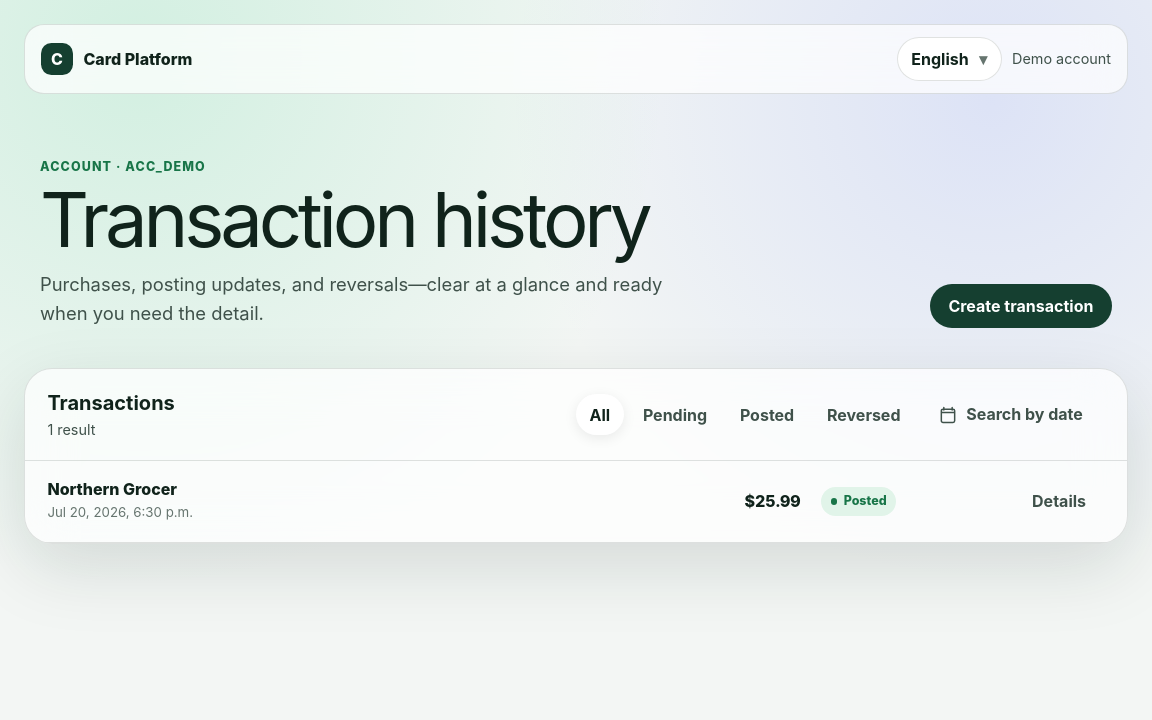
App › switches the complete customer UI to French and persists the preference
This screenshot has width=1152, height=720.
Expected: the heading "Transaction history" is shown, [40,182,711,257]
Click the dropdown named "Language".
click(949, 59)  # box [897,37,1002,81]
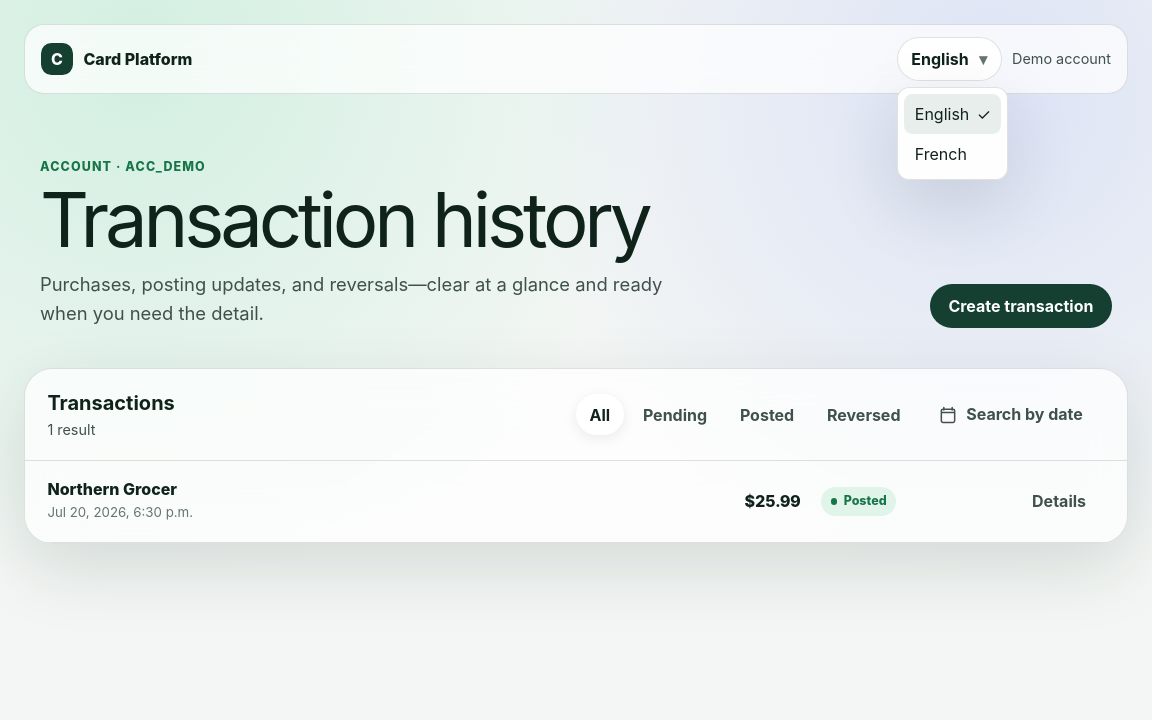
Click the option "French".
click(941, 154)  # box [915,144,967,164]
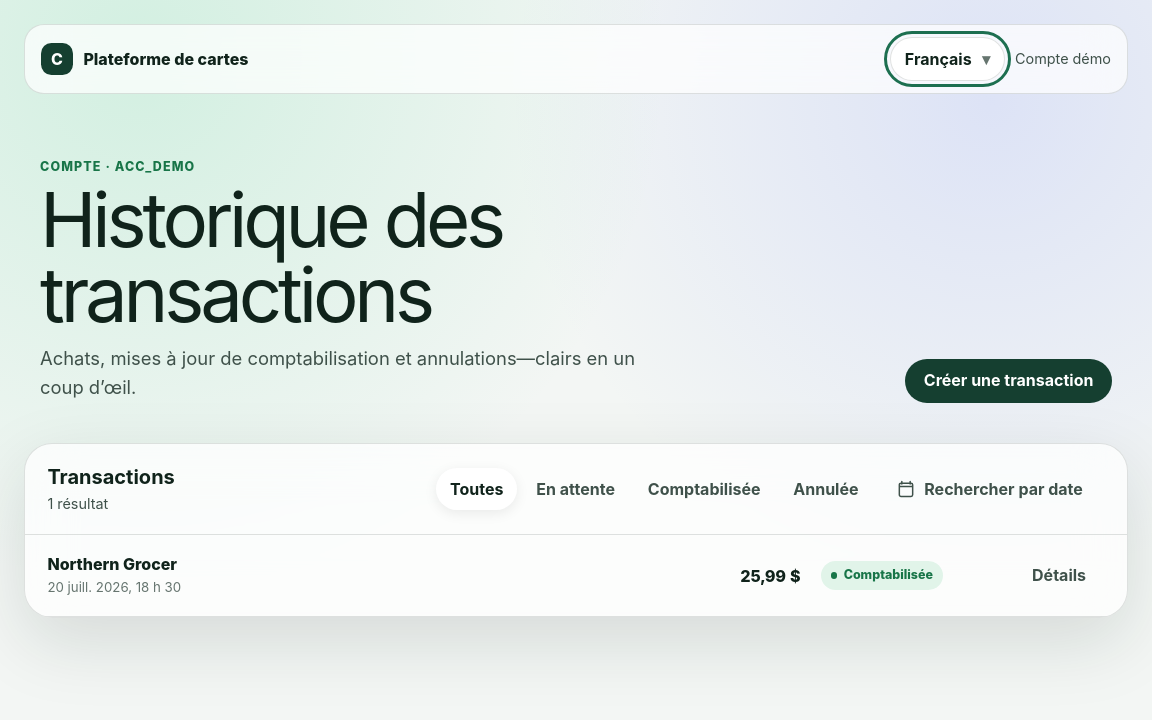
Expected: the heading "Historique des transactions" is shown, [40,173,502,340]
Expected: the text "25,99 $" is shown, [740,566,801,586]
Click the button "Créer une transaction".
click(1009, 381)  # box [905,359,1112,403]
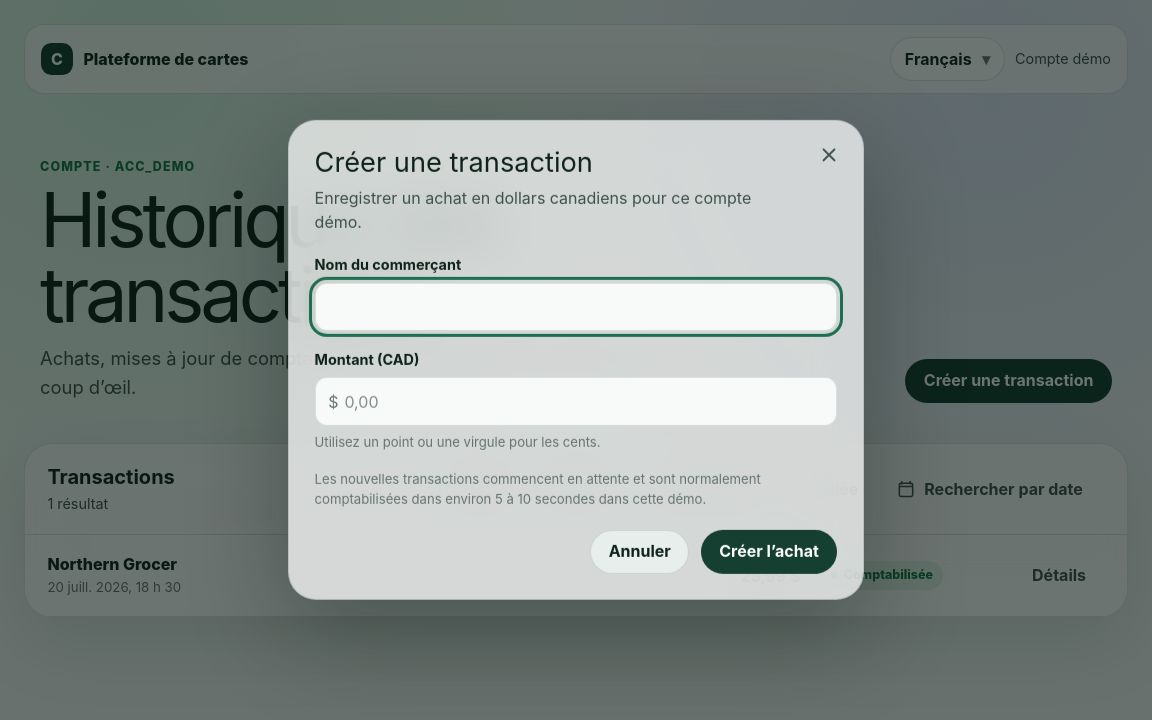
Expected: the dialog "Créer une transaction" is shown, [288,120,864,600]
